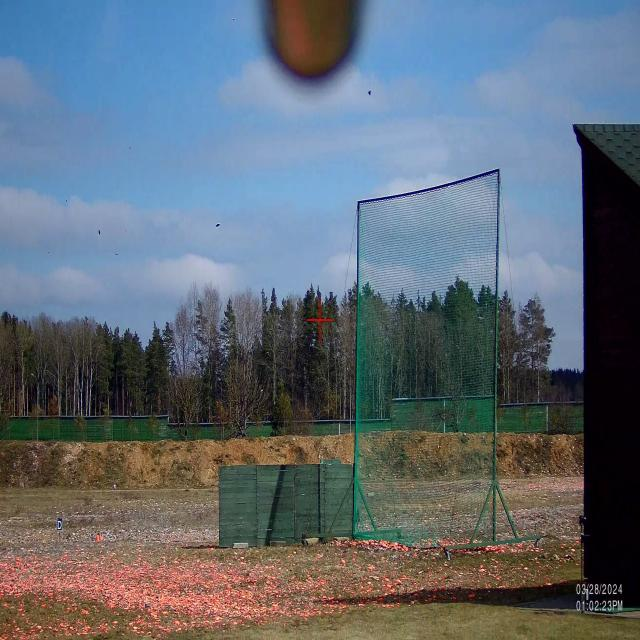broken: (39, 58, 388, 328)
